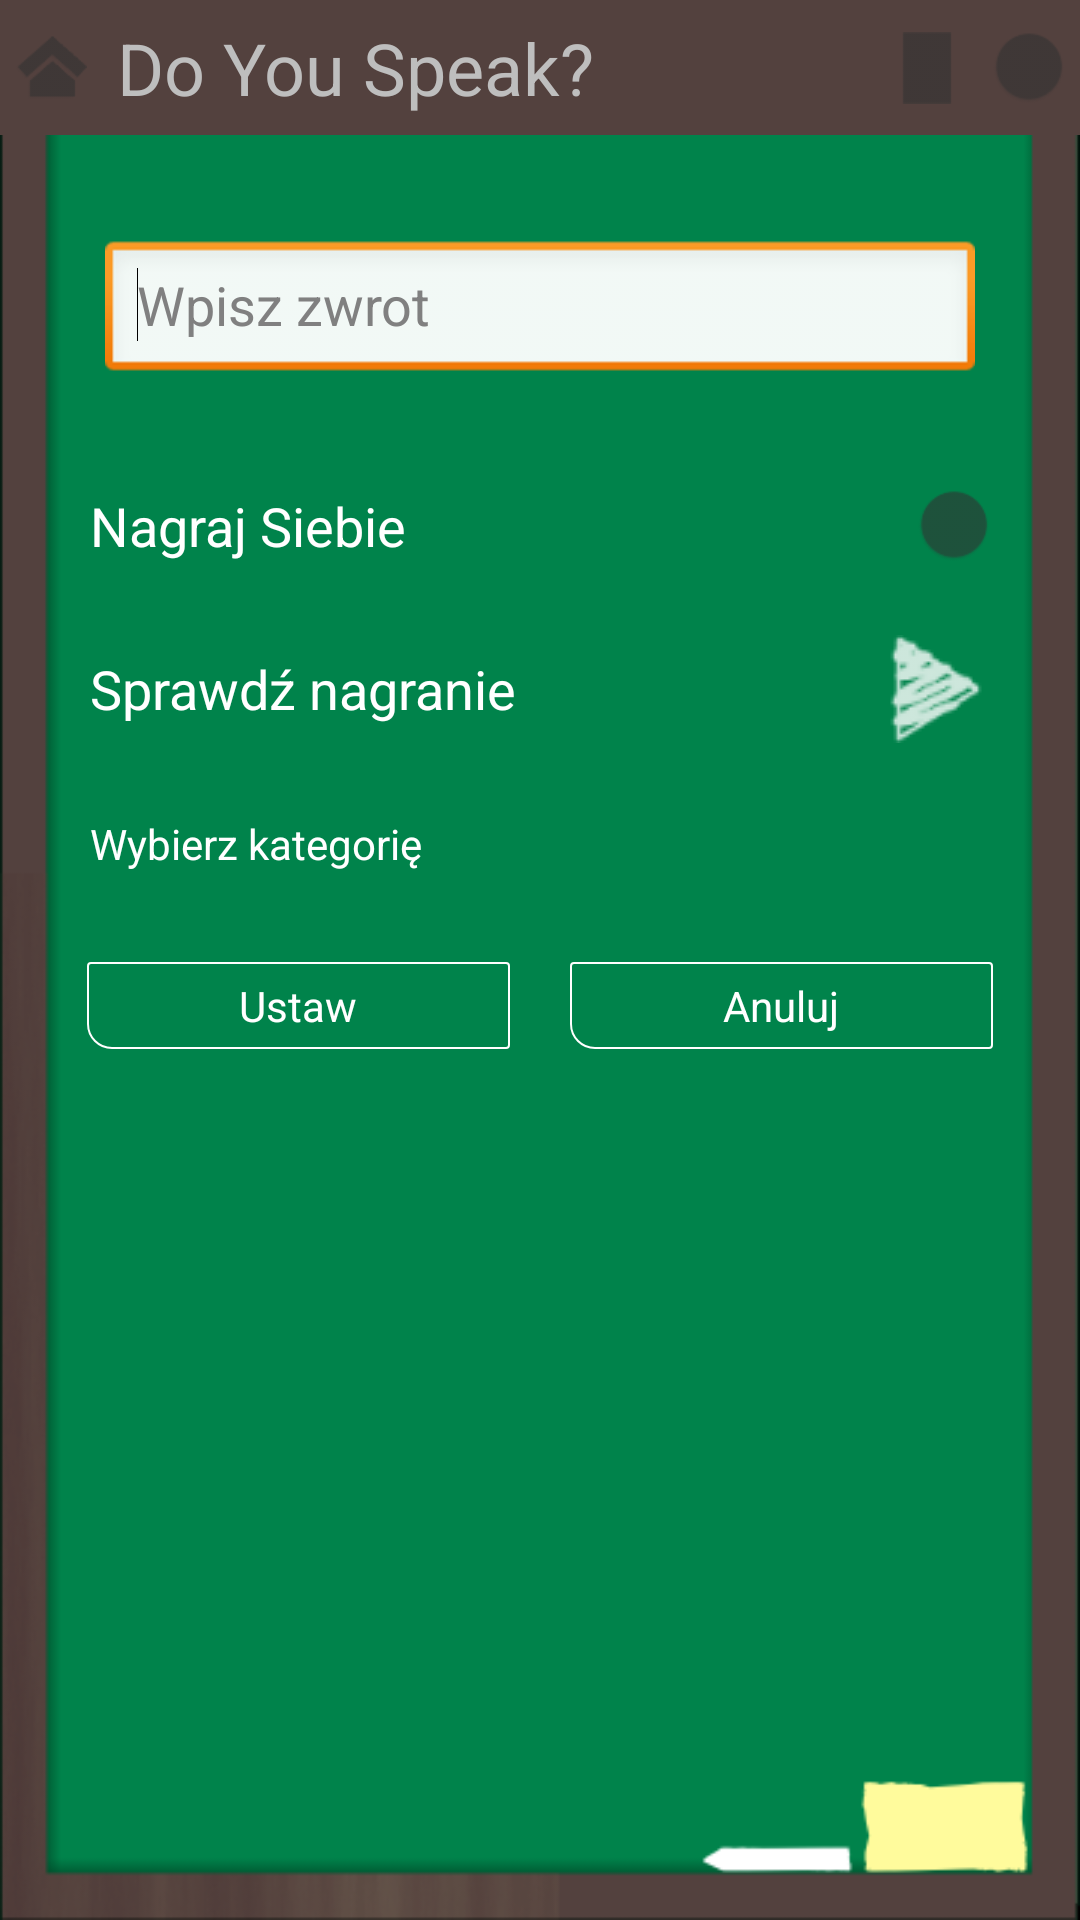

Screen size 1080 × 1920. Icon name, then its center in pixels as (x,y):
play: (935,690)
